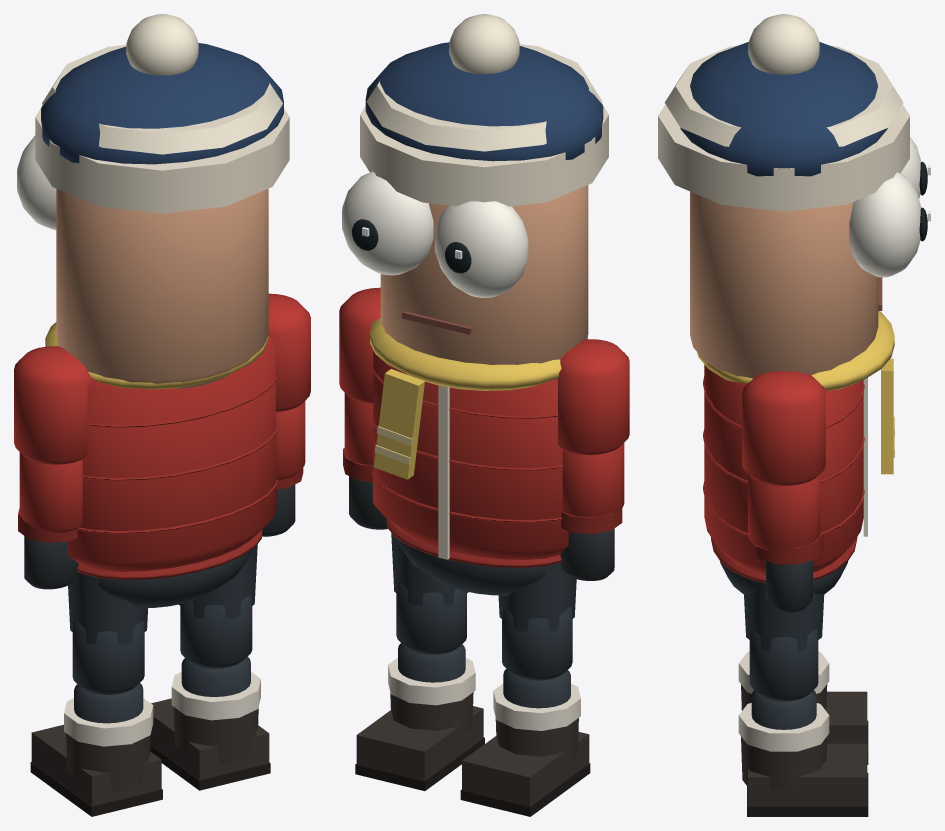
File: spectator_winter_0.glb
3 views of the same model, side by side, from view 1: azimuth 30°, elevation 25°; view 2: azimuth 150°, elevation 25°; view 3: azimuth 270°, elevation 25° (orthographic). The views are drawn at different scales.
Parts seen in each view (by area): view 1: Head, RallySpectator, LeftShin, RightShin, LeftArm, LeftLeg, LeftForearm, RightLeg, RightArm, RightForearm; view 2: Head, RallySpectator, LeftShin, RightShin, LeftArm, LeftForearm, LeftLeg, RightLeg, RightArm, RightForearm; view 3: Head, RallySpectator, RightShin, RightArm, RightForearm, RightLeg, LeftShin.
Part boxes in pixels (box(x1,y1,x2,y2)): Head: box(17, 14, 289, 388); RallySpectator: box(45, 322, 277, 608); LeftShin: box(30, 683, 162, 816); RightShin: box(150, 656, 270, 790); LeftArm: box(14, 346, 91, 464); LeftLeg: box(68, 573, 147, 694); LeftForearm: box(18, 452, 82, 589); RightLeg: box(178, 544, 257, 668); RightArm: box(268, 293, 310, 411); RightForearm: box(262, 401, 305, 536); Head: box(342, 14, 608, 364); RallySpectator: box(370, 317, 587, 595); LeftShin: box(460, 669, 590, 816); RightShin: box(355, 643, 484, 790); LeftArm: box(557, 339, 629, 455); LeftForearm: box(560, 443, 624, 580); LeftLeg: box(498, 563, 576, 680); RightLeg: box(391, 533, 468, 654); RightArm: box(339, 287, 380, 403); RightForearm: box(343, 393, 387, 529); Head: box(658, 14, 930, 378); RallySpectator: box(697, 311, 894, 594); RightShin: box(738, 690, 868, 816); RightArm: box(742, 371, 825, 485); RightForearm: box(748, 474, 823, 612); RightLeg: box(744, 581, 824, 701); LeftShin: box(738, 651, 868, 764).
Size of the model in its own units: 0.9 by 2.3 by 0.7535.
